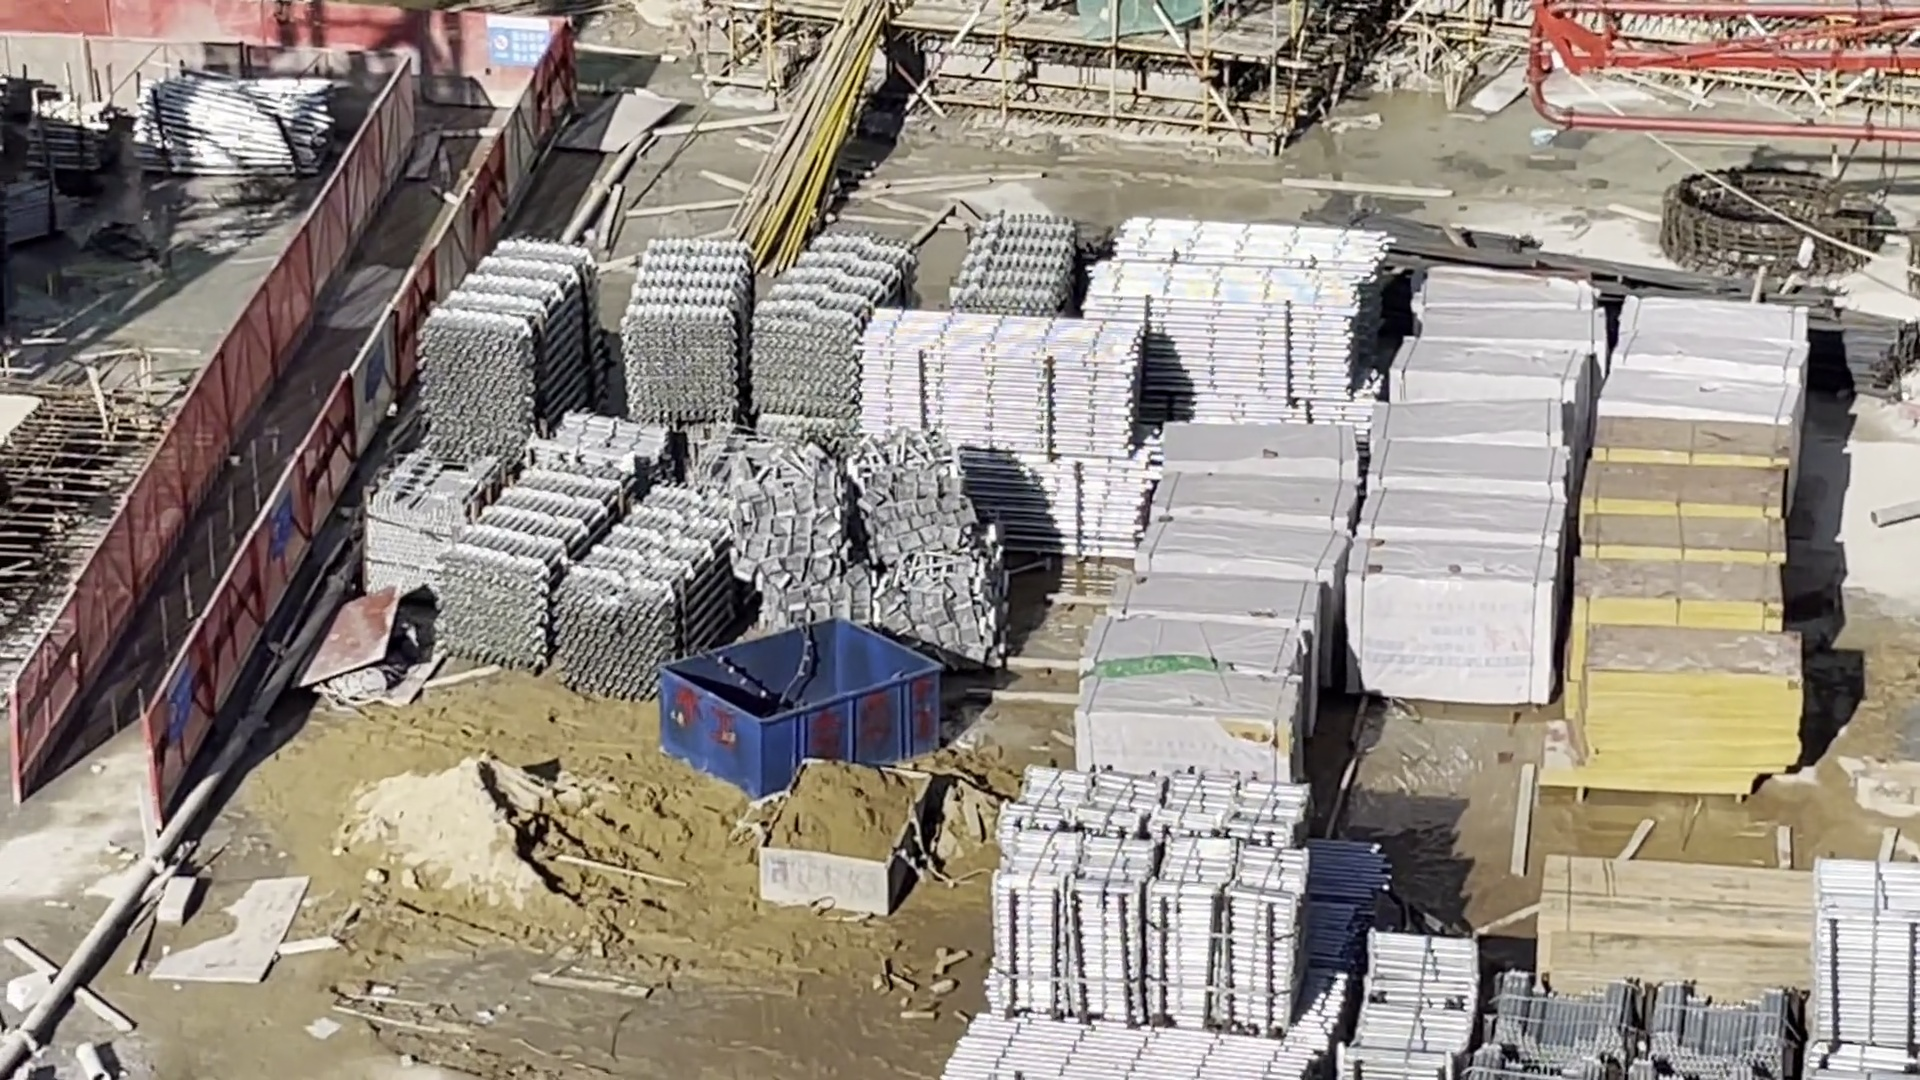board: (1567, 422, 1793, 808), (1542, 855, 1825, 997)
fence: (25, 79, 555, 777), (1, 1, 487, 111)
hopper: (663, 620, 943, 806), (754, 757, 932, 916)
rebar: (1382, 224, 1917, 382)
scaffold: (994, 773, 1294, 1036), (858, 315, 1143, 554), (455, 479, 738, 694), (621, 237, 909, 429), (1104, 231, 1389, 419), (427, 237, 597, 454), (1480, 972, 1796, 1080), (938, 1019, 1342, 1080), (1812, 858, 1920, 1076), (1346, 942, 1480, 1080), (131, 80, 332, 170), (949, 218, 1073, 316), (26, 100, 105, 175)
slogan: (485, 11, 554, 69), (165, 659, 190, 737), (269, 483, 290, 562)
